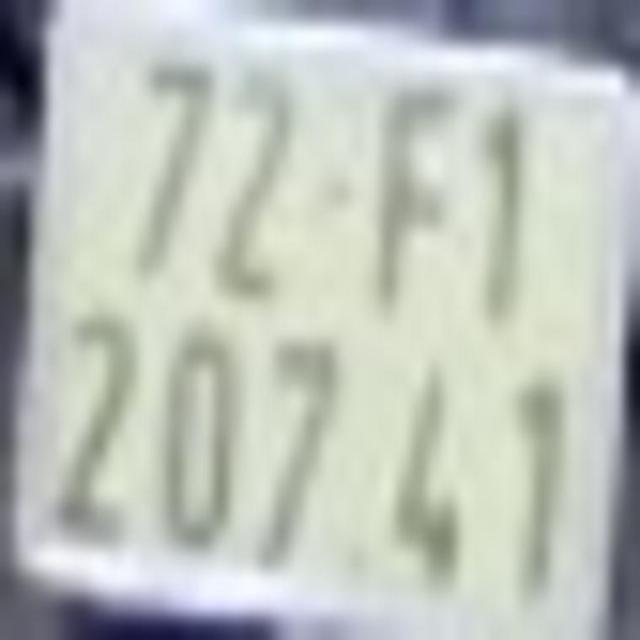0: (164, 318, 232, 558)
1: (501, 356, 564, 614), (474, 91, 528, 322)
2: (216, 59, 292, 300), (60, 312, 136, 537)
4: (383, 346, 467, 599)
7: (122, 60, 209, 282), (261, 332, 335, 575)
F: (366, 70, 462, 332)
